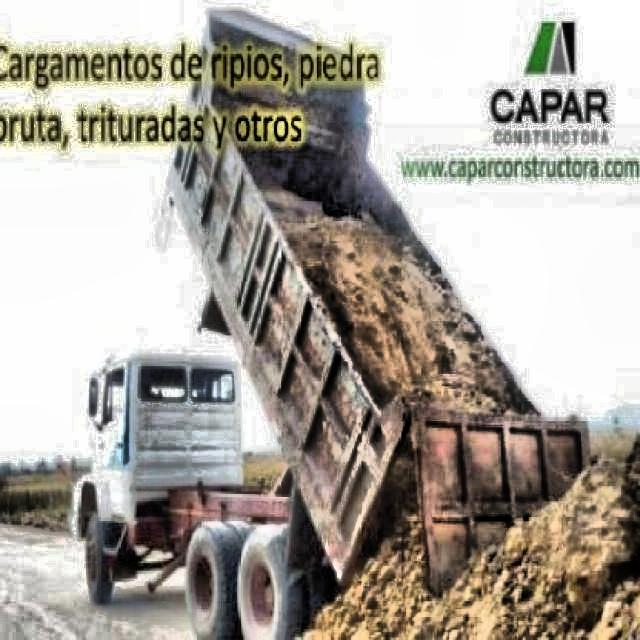dump_truck: (65, 10, 593, 636)
